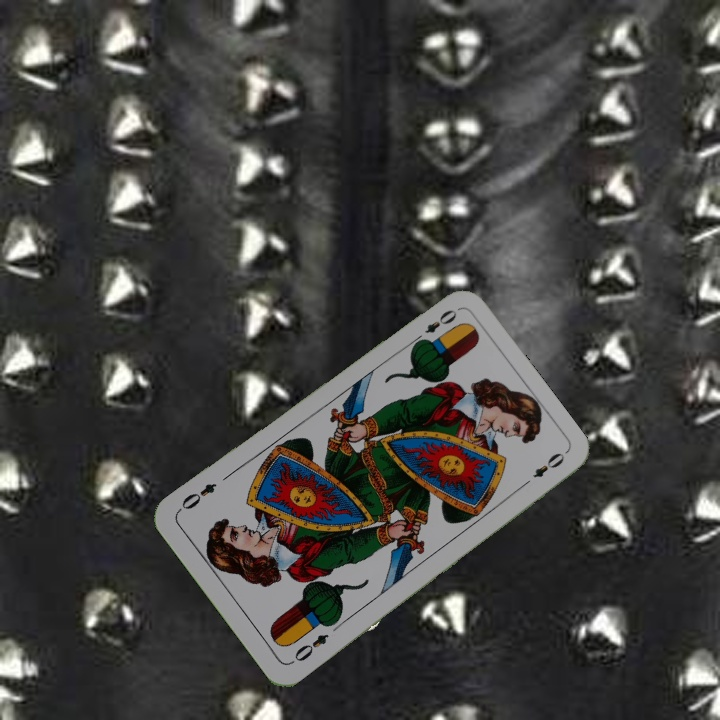EO: (409, 305, 460, 348), (287, 629, 331, 667)
